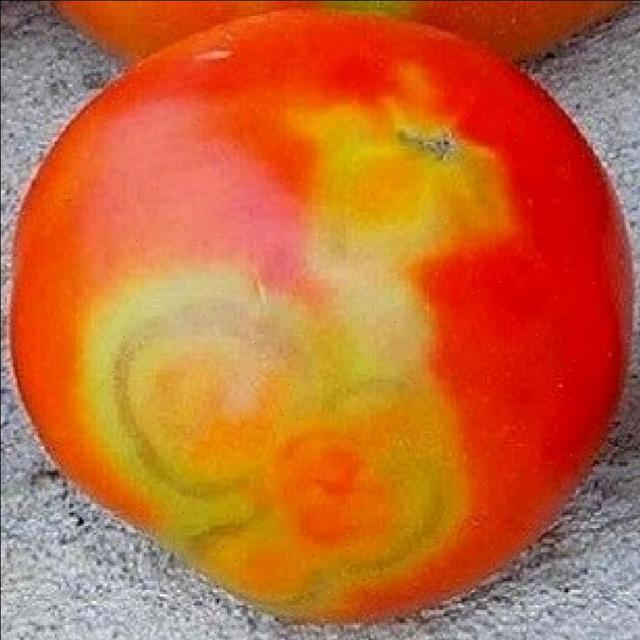Spotted wilt Virus Fruit: (82, 2, 179, 39)
